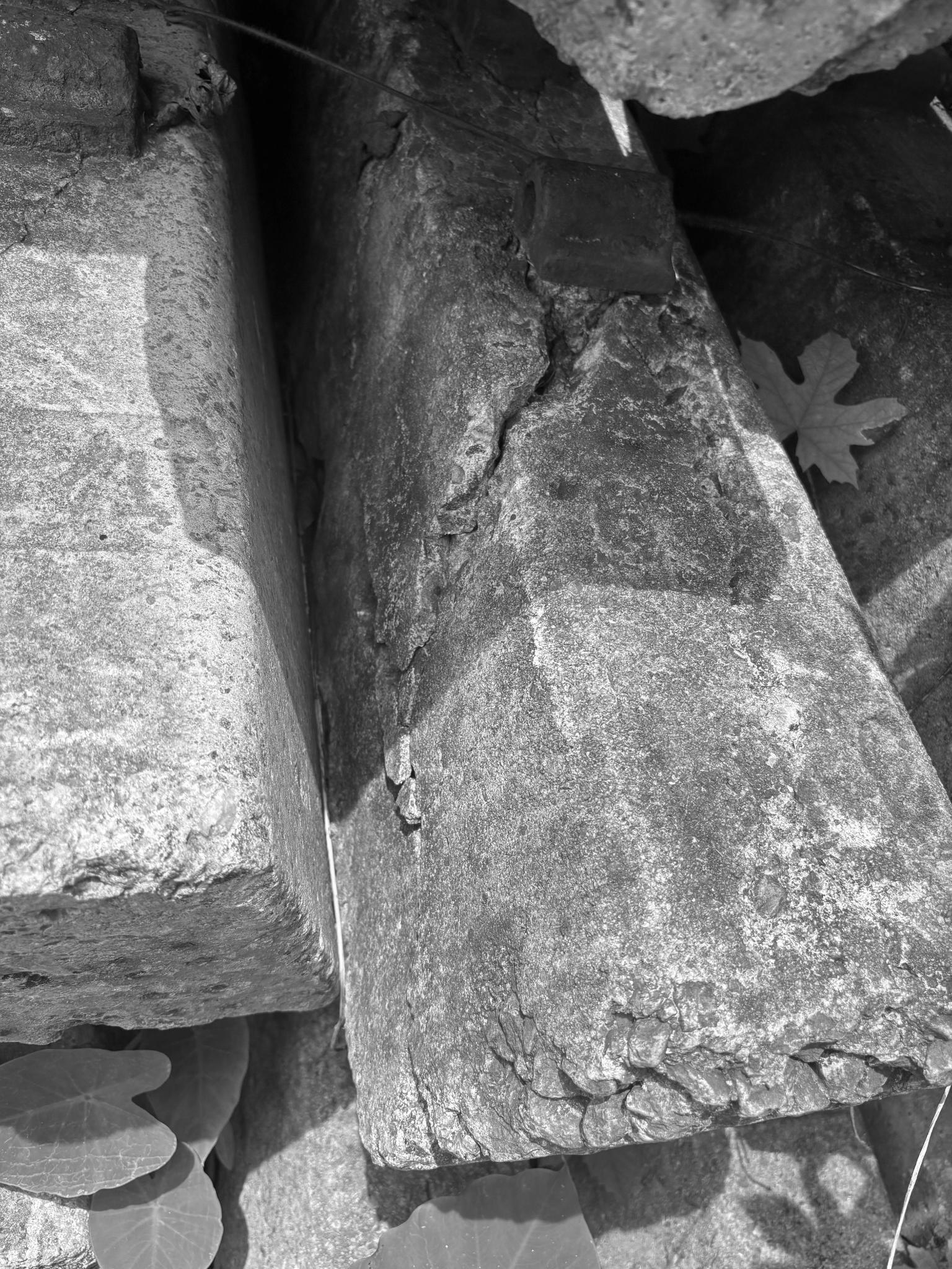cracks under rail seat: (247, 231, 654, 910), (599, 270, 836, 769), (382, 0, 618, 200)
